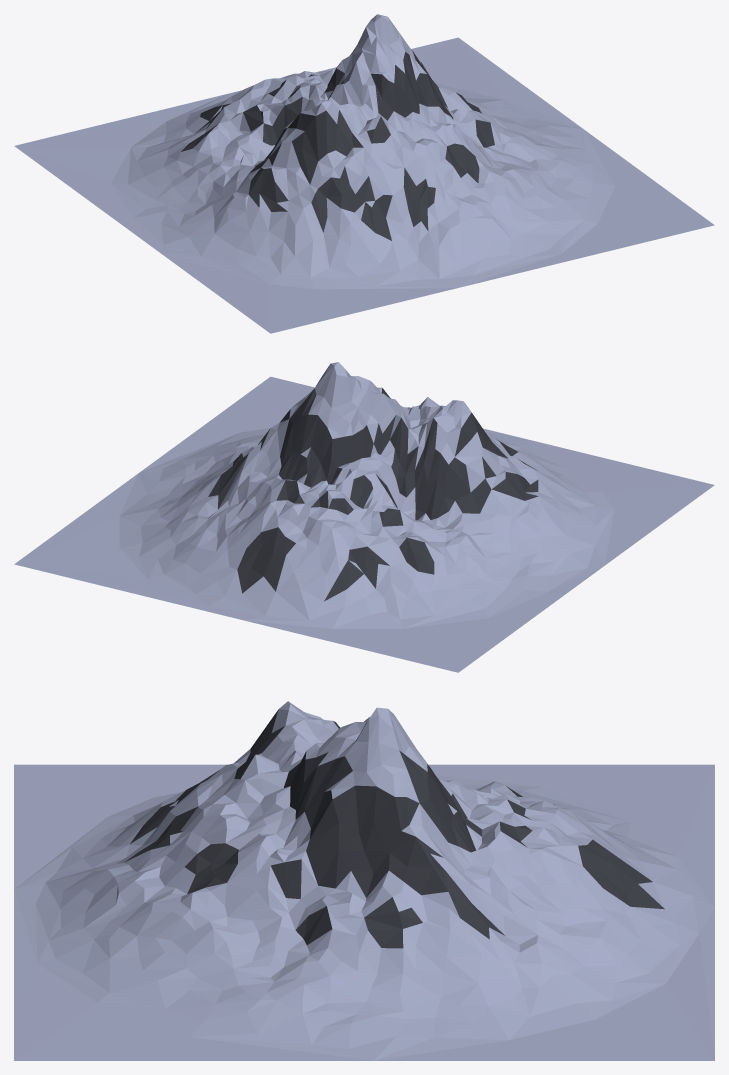
Rendered from VennLevel3Mountain.fbx.
3 renders of one model, top to bottom at view 1: azimuth 30°, elevation 25°; view 2: azimuth 150°, elevation 25°; view 3: azimuth 270°, elevation 25°, orthographic. The views are drawn at different scales.
Parts seen in each view (by area): view 1: Landscape.003; view 2: Landscape.003; view 3: Landscape.003.
Boxes of the visible parts, x1,y1,x2,y2 form: Landscape.003: (14,14,714,333); Landscape.003: (14,362,714,672); Landscape.003: (14,701,714,1060).
Bounding box in the file's own units: 200 × 69.11 × 200.
